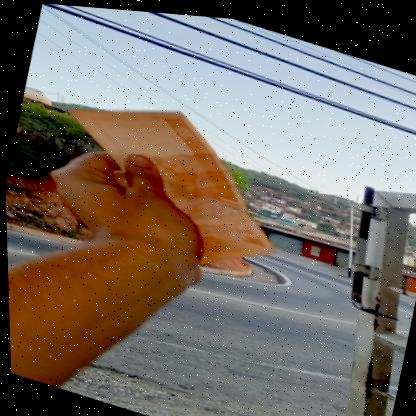twenty-back-vef: (40, 72, 300, 284)
